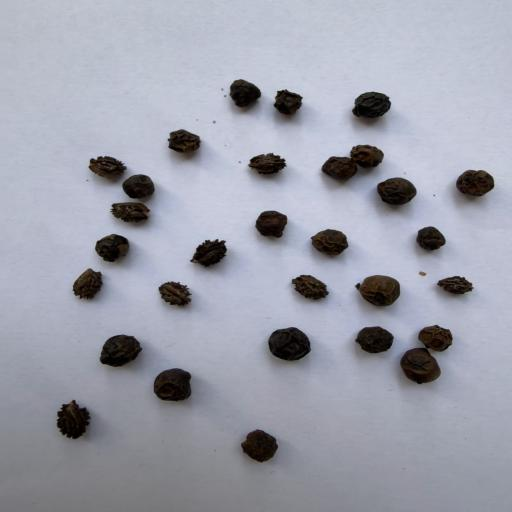Black_pepper: (268, 324, 324, 370), (100, 338, 158, 374), (242, 430, 293, 468), (364, 276, 411, 317), (276, 95, 325, 130), (158, 372, 204, 408), (100, 236, 146, 272), (170, 130, 214, 166), (403, 354, 448, 389), (310, 230, 358, 262), (354, 328, 399, 361), (228, 85, 272, 118), (125, 177, 169, 209), (458, 167, 495, 205), (354, 98, 398, 127), (328, 162, 368, 192), (419, 325, 459, 355), (382, 182, 420, 212), (260, 212, 292, 246), (416, 227, 453, 256), (346, 149, 388, 168)
papaya_seed: (181, 232, 240, 272), (51, 397, 102, 443), (239, 149, 296, 183), (67, 266, 117, 304), (424, 266, 478, 298), (287, 269, 334, 305), (106, 202, 162, 232), (81, 154, 139, 180), (152, 278, 198, 308)
